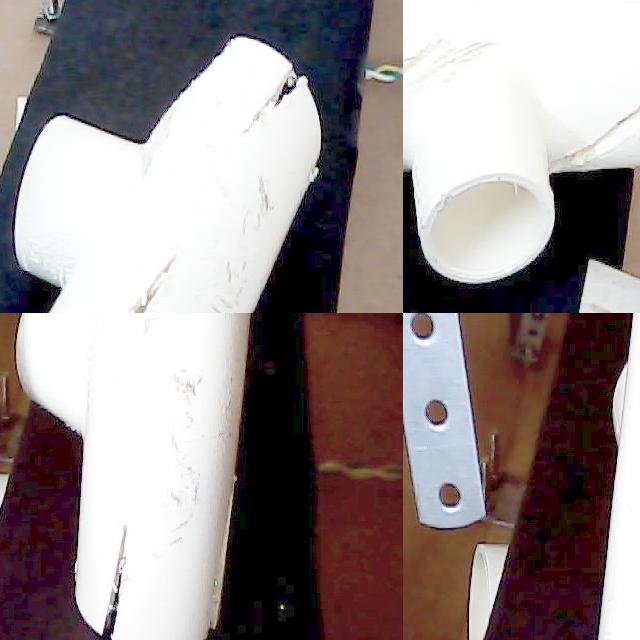Defective: (537, 42, 640, 169), (161, 350, 211, 596), (87, 470, 141, 640), (91, 246, 201, 313), (162, 368, 204, 513), (404, 37, 509, 89), (213, 437, 239, 640), (245, 63, 305, 123), (105, 526, 132, 640), (141, 313, 188, 378), (590, 594, 615, 640)
T Joint: (14, 38, 322, 313), (14, 313, 250, 640)
